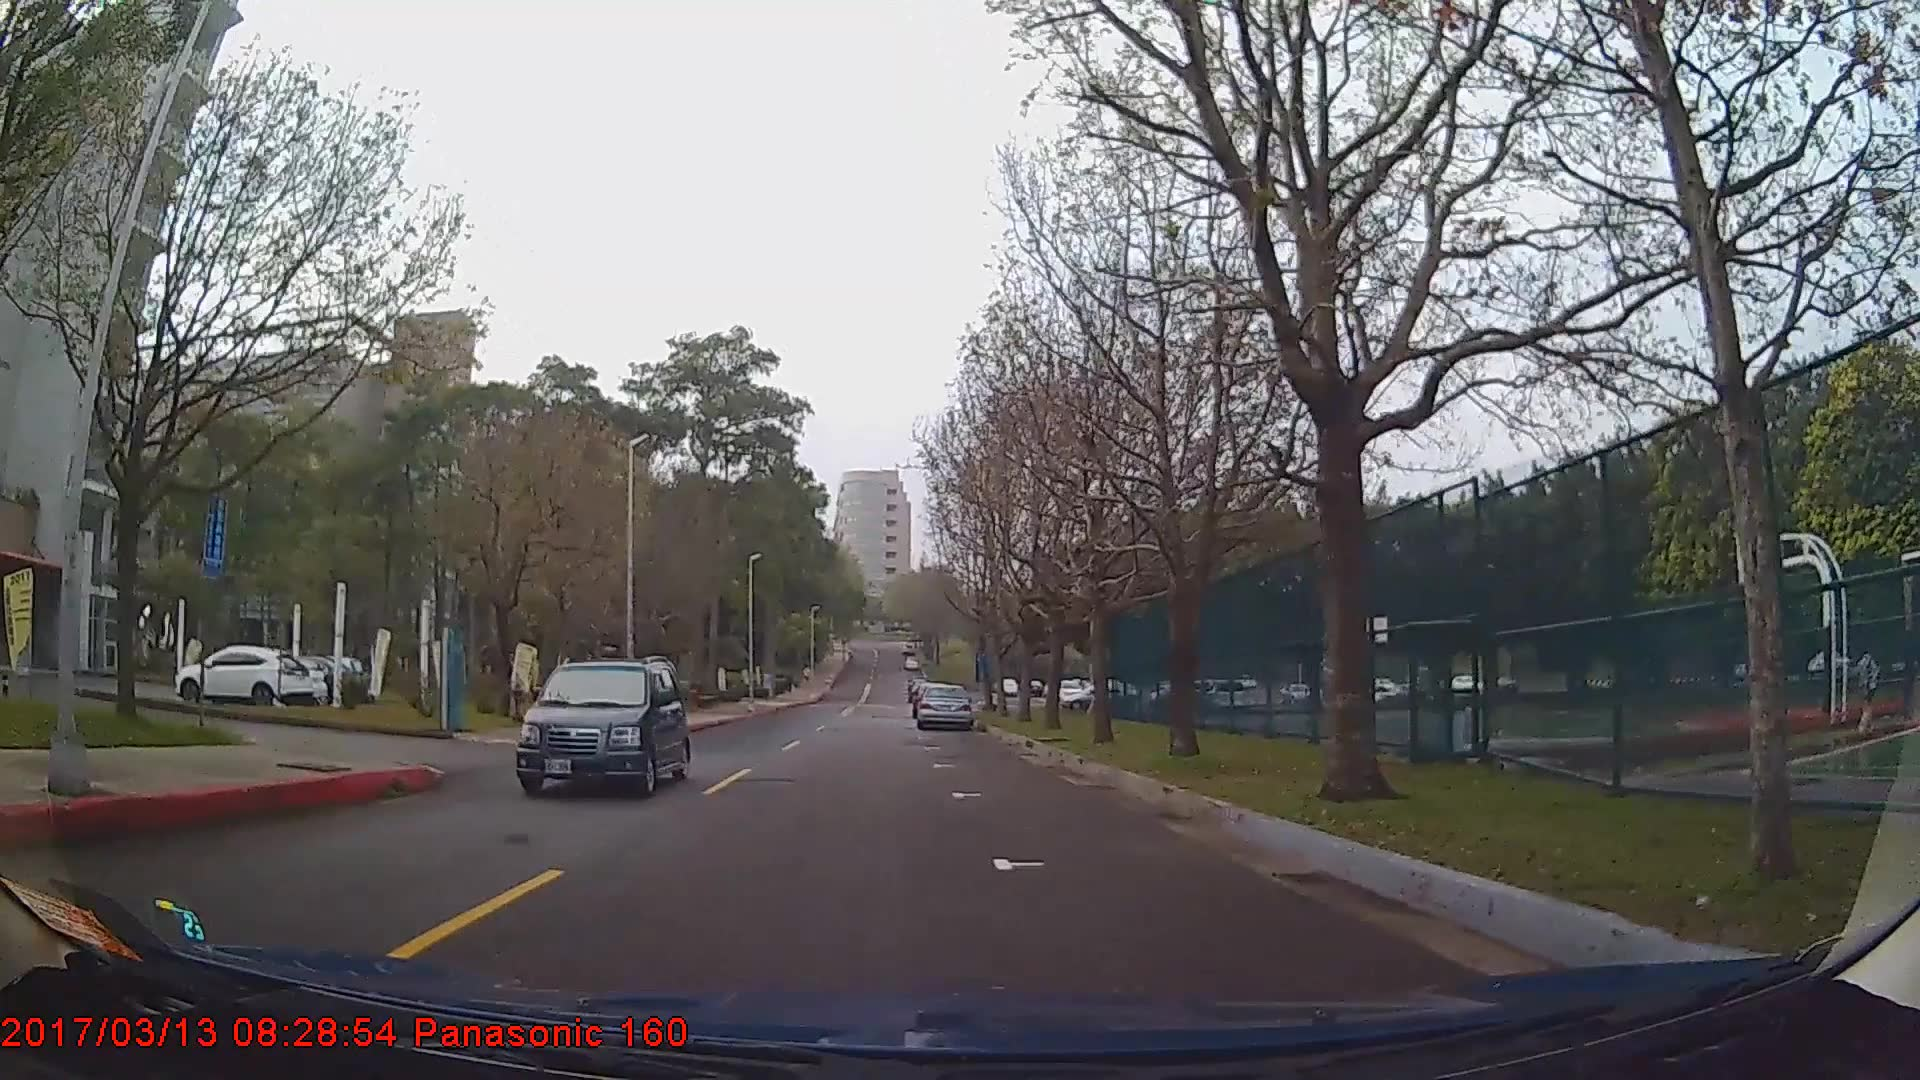vehicle: (514, 659, 688, 800), (173, 645, 311, 711), (914, 684, 972, 733)
